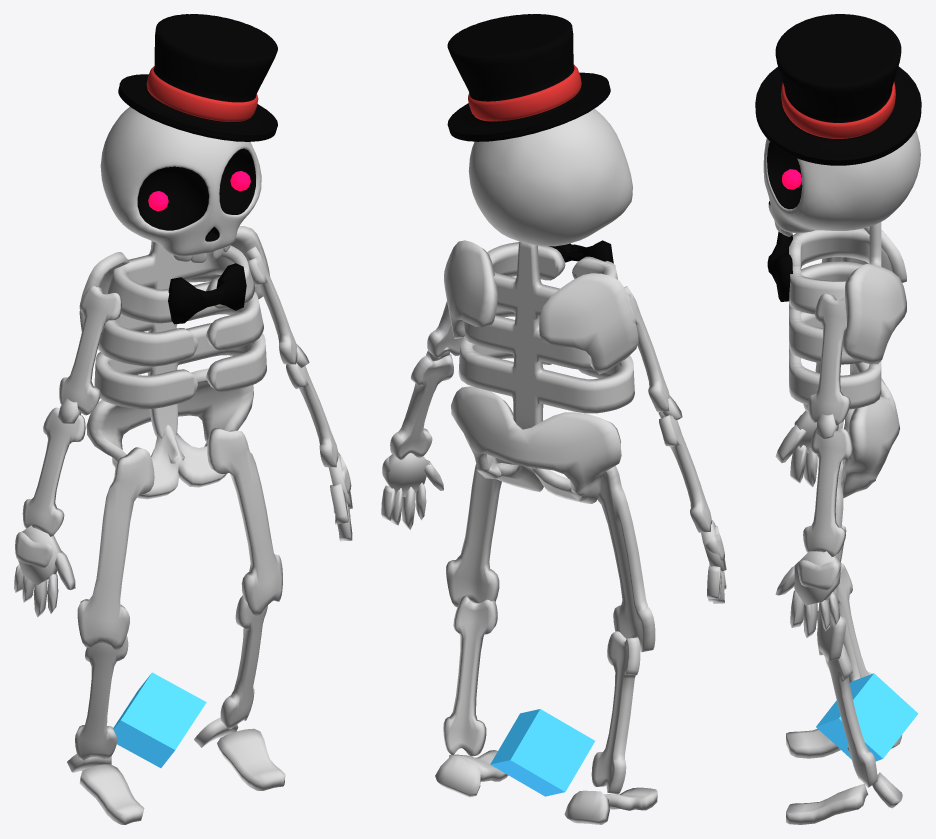
The model's file is small-model.glb.
3 renders of one model, left to right at view 1: azimuth 30°, elevation 25°; view 2: azimuth 150°, elevation 25°; view 3: azimuth 270°, elevation 25°, orthographic.
Parts seen in each view (by area): view 1: Cube.010; view 2: Cube.010; view 3: Cube.010.
Part boxes in pixels (x1,y1,x2,y2): Cube.010: (14, 14, 352, 824); Cube.010: (381, 14, 726, 824); Cube.010: (755, 14, 921, 824).
Bounding box in the file's own units: 2.89 × 6.26 × 1.23.
